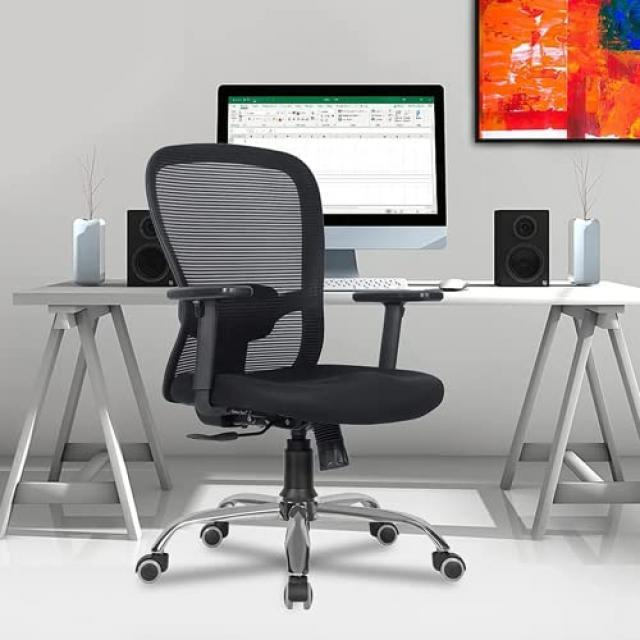chair: (136, 141, 465, 608)
